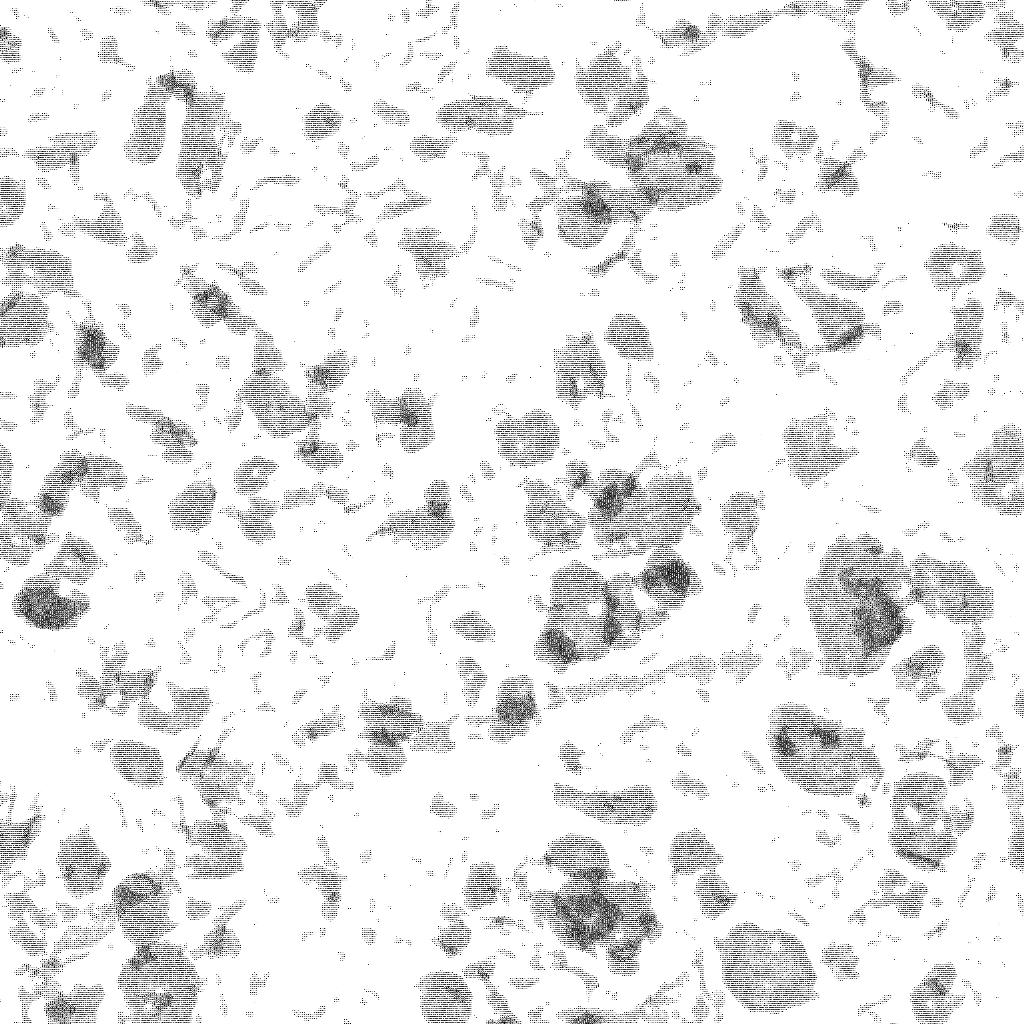axone: (791, 523, 912, 684), (584, 106, 730, 211), (758, 695, 880, 817), (542, 860, 668, 973), (704, 917, 822, 1017), (586, 462, 706, 557), (531, 556, 621, 680), (171, 66, 241, 212), (886, 769, 975, 873), (900, 543, 1001, 629), (522, 158, 614, 251), (572, 41, 659, 130), (111, 941, 204, 1024), (776, 404, 863, 491), (514, 471, 587, 569), (5, 567, 103, 639), (118, 60, 179, 174), (108, 858, 176, 960), (230, 366, 321, 439), (370, 480, 458, 553), (357, 382, 441, 456), (547, 779, 665, 831), (170, 816, 254, 887), (571, 166, 665, 229), (483, 403, 565, 473), (428, 89, 536, 141), (547, 331, 613, 416), (634, 540, 706, 617), (538, 819, 622, 883), (46, 823, 113, 901), (1, 241, 89, 299), (482, 39, 563, 101), (402, 965, 485, 1024), (596, 568, 648, 655), (904, 963, 976, 1024), (158, 472, 221, 540), (1, 287, 61, 357), (67, 308, 123, 383), (597, 310, 661, 367), (691, 864, 749, 925), (107, 741, 172, 793), (661, 824, 731, 871), (358, 736, 413, 789), (298, 99, 348, 143)
